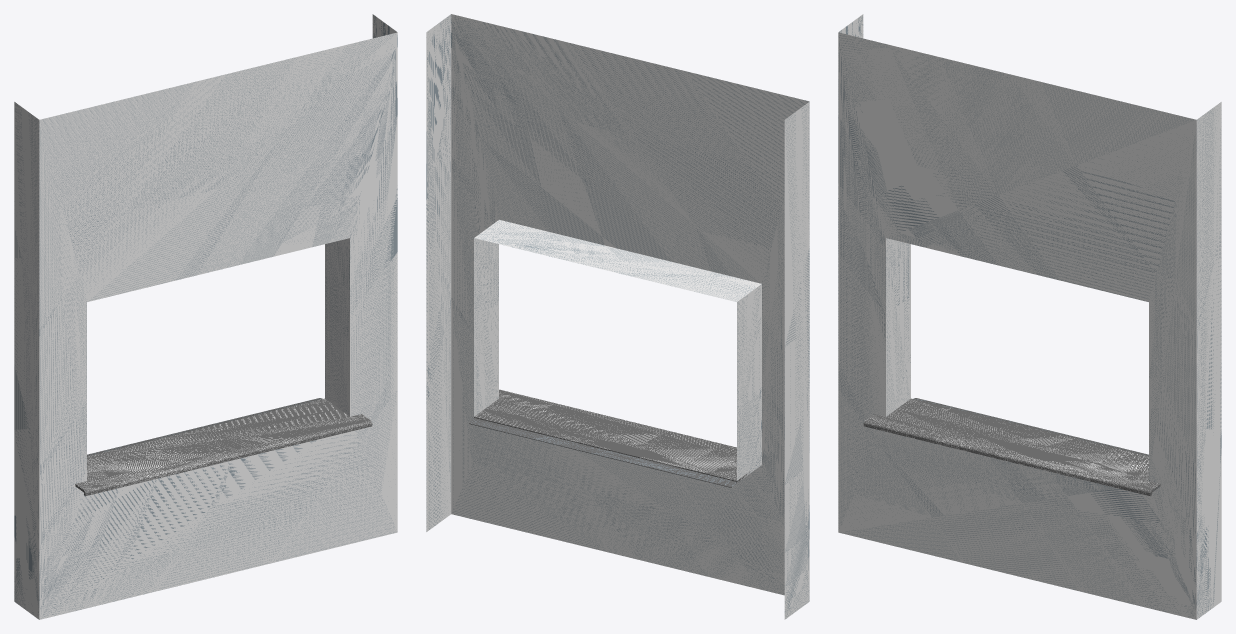
The model's file is WindowBlock_os_[300x400]_220x143x[100].dae.
The picture shows the model from 3 angles, left to right: view 1: azimuth 30°, elevation 25°; view 2: azimuth 150°, elevation 25°; view 3: azimuth 330°, elevation 25°; orthographic projection.
Parts seen in each view (by area): view 1: group_1 (×2), group_2 (×2); view 2: group_1 (×2), group_2 (×2); view 3: group_1 (×2), group_2 (×2).
Part boxes in pixels (x1,y1,x2,y2): group_1 (×2): [14, 14, 397, 619]; group_2 (×2): [75, 398, 372, 496]; group_1 (×2): [426, 14, 809, 619]; group_2 (×2): [469, 389, 749, 487]; group_1 (×2): [838, 14, 1221, 619]; group_2 (×2): [863, 398, 1160, 495].
Bounding box in the file's own units: 118 × 23.03 × 157.
